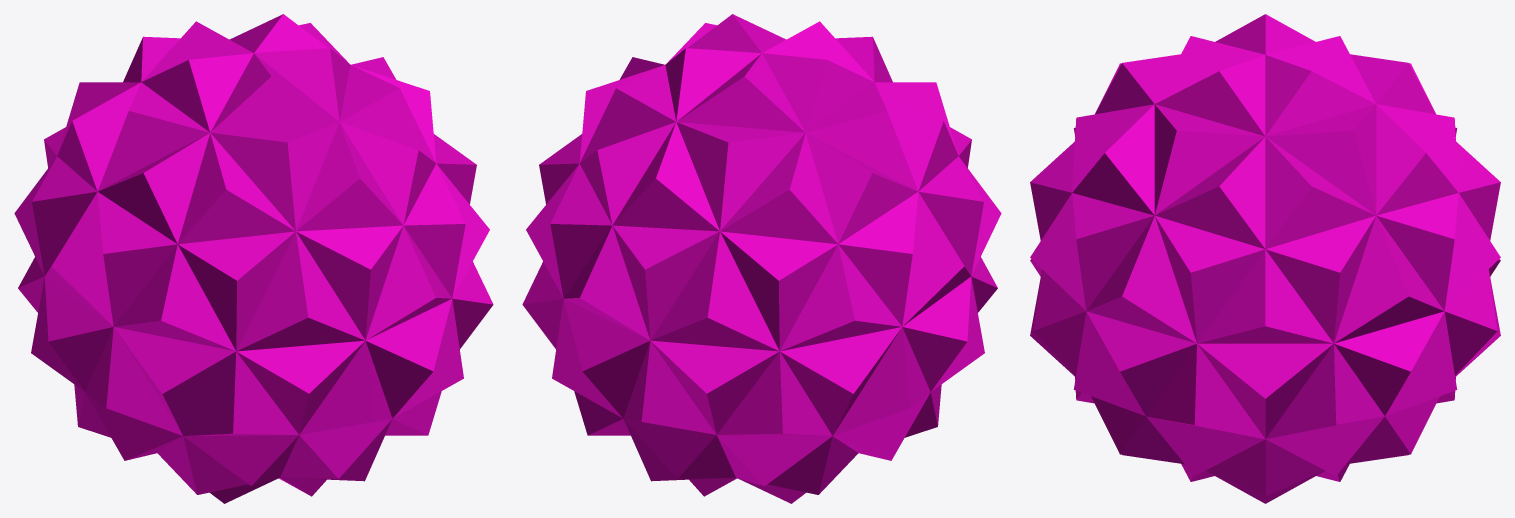
The model's file is plant_04_sporenpilz_samen.gltf.
3 renders of one model, left to right at view 1: azimuth 30°, elevation 25°; view 2: azimuth 150°, elevation 25°; view 3: azimuth 270°, elevation 25°, orthographic.
Visible parts, largest first — view 1: Icosphere; view 2: Icosphere; view 3: Icosphere.
Part boxes in pixels (x1=…): Icosphere: x1=14, y1=14, x2=493, y2=503; Icosphere: x1=522, y1=14, x2=1001, y2=503; Icosphere: x1=1030, y1=14, x2=1500, y2=503.
Size of the model in its own units: 0.0156 by 0.0156 by 0.0156.
